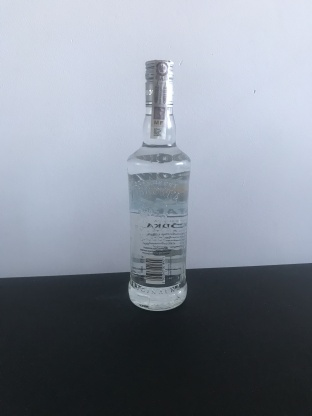nakretka: (142, 57, 176, 110)
